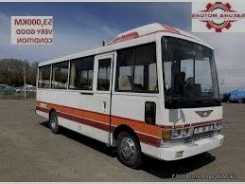bus: (33, 25, 224, 171)
